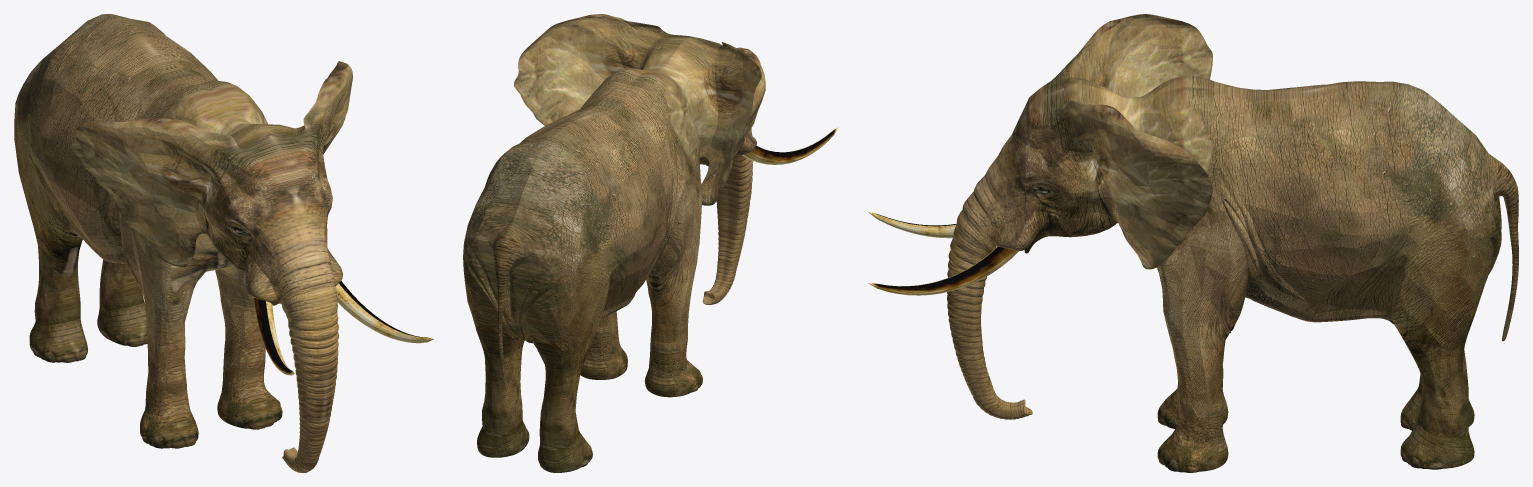
3 views of the same model, side by side, from view 1: azimuth 30°, elevation 25°; view 2: azimuth 150°, elevation 25°; view 3: azimuth 270°, elevation 25° (orthographic). The views are drawn at different scales.
Bounding box in the file's own units: 0.1032 × 0.1353 × 0.2137.
3 materials, 2 textured.
